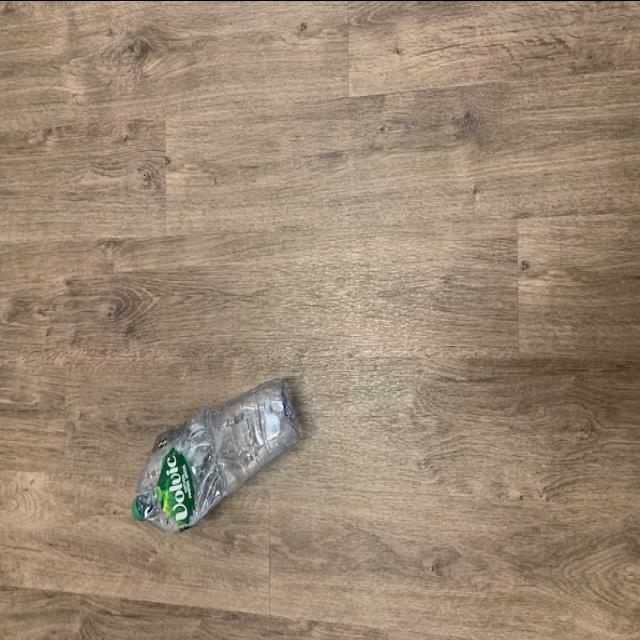litter: (133, 378, 311, 532)
